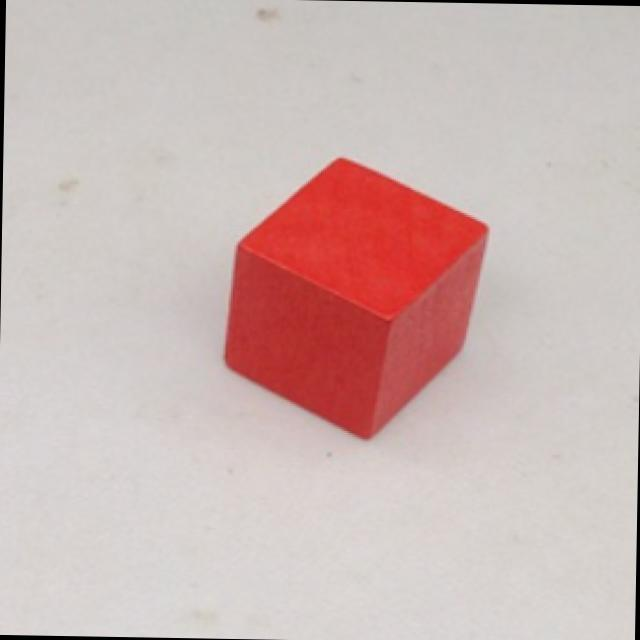red cube: (219, 154, 492, 444)
